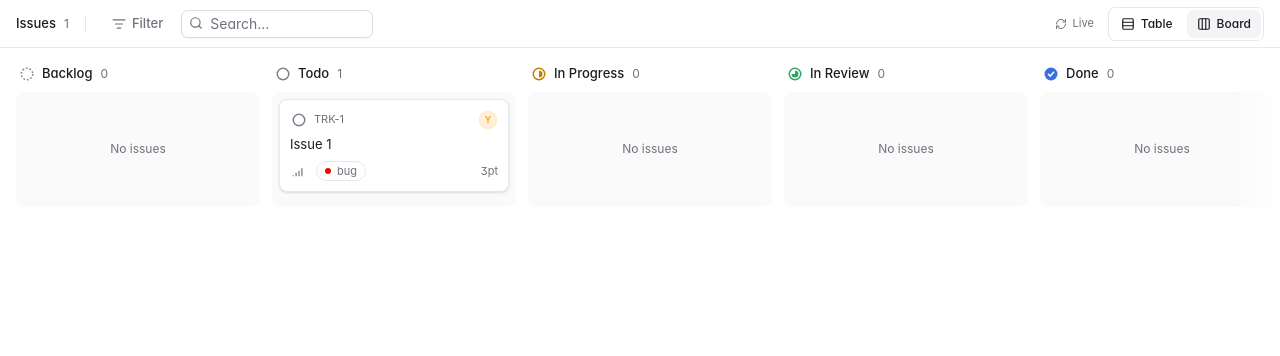
Test: inline edit on board cards › edits priority and moves the card when the status changes
Click the button named "Change status of TRK-1": (299, 120) [290,110,308,128]
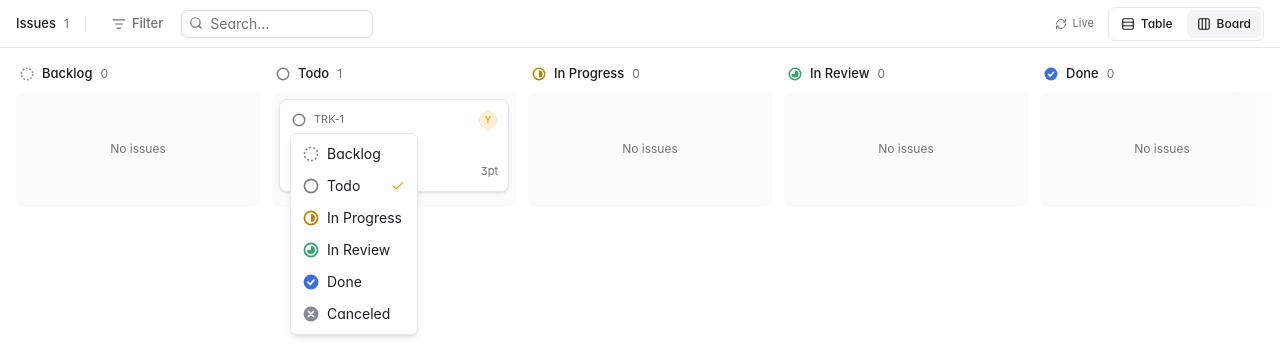
Click the menu item "Done": (332, 282) [303,273,362,290]
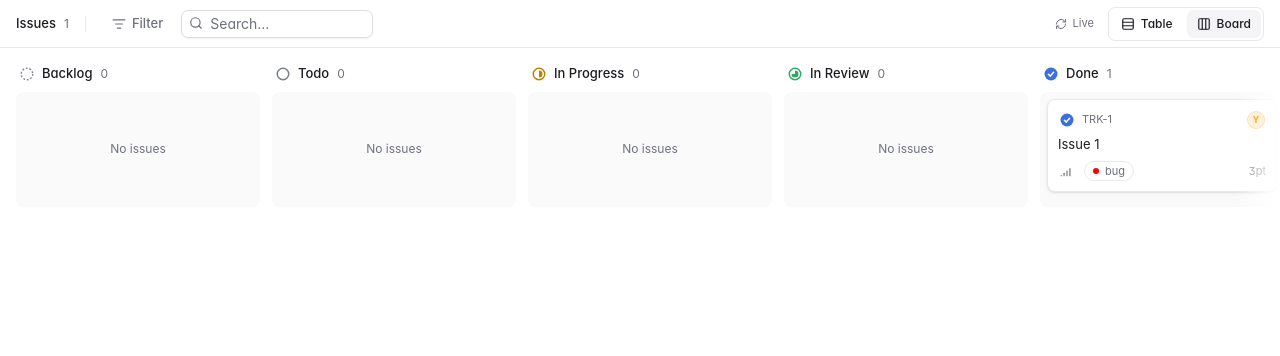
expect the text with test id "count-done" reads "1": met, box [1107,66,1112,81]
expect the text with test id "count-todo" reads "0": met, box [337,66,345,81]
